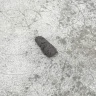Dog: (35, 36, 57, 56)
